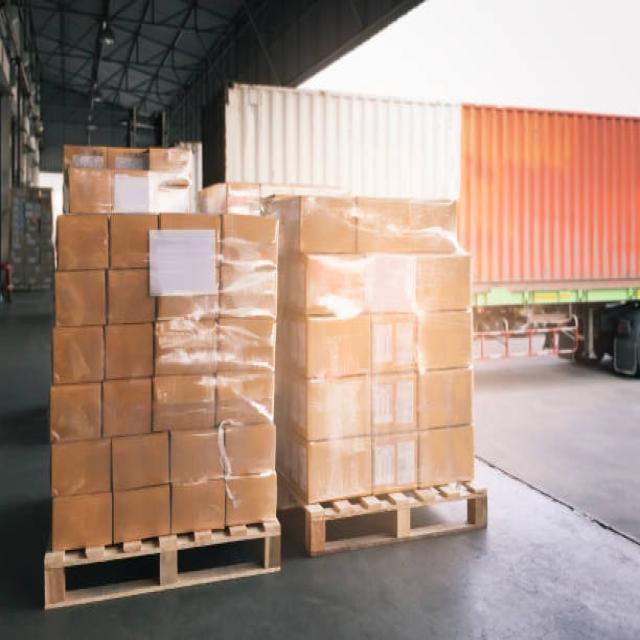Wooden-Pallets: (36, 511, 283, 619), (302, 476, 485, 568)
